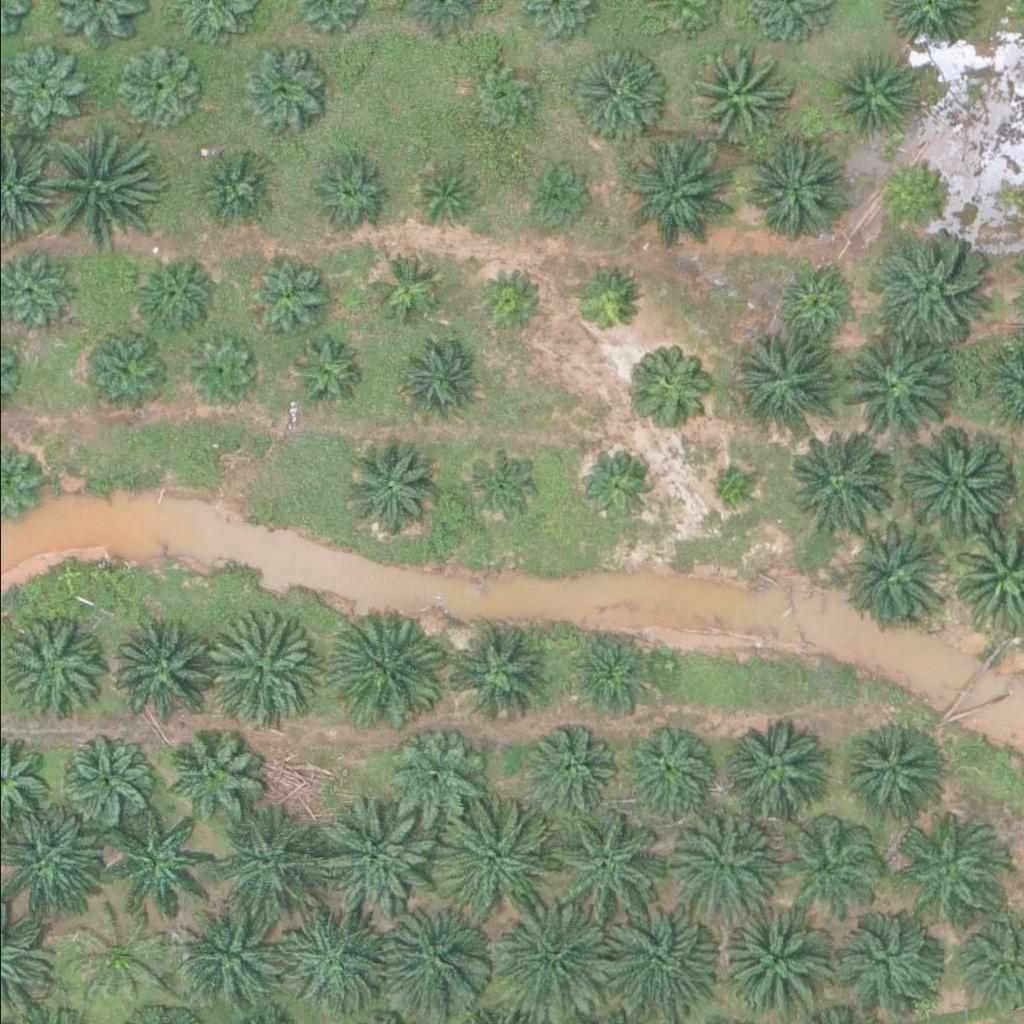Kelapa_Sawit: (331, 614, 445, 727), (315, 798, 428, 911), (208, 610, 321, 723), (36, 132, 149, 245), (494, 907, 607, 1020), (605, 907, 718, 1020), (723, 906, 836, 1019), (838, 907, 951, 1020), (663, 804, 776, 917), (434, 806, 547, 919), (898, 423, 1011, 536), (781, 420, 894, 533), (869, 235, 982, 348), (276, 903, 390, 1015), (163, 904, 277, 1016), (98, 617, 212, 729), (379, 911, 493, 1023), (838, 327, 952, 439), (102, 805, 215, 917), (217, 809, 330, 921), (620, 140, 733, 252), (549, 811, 662, 923), (838, 516, 951, 628), (729, 332, 842, 444), (72, 910, 173, 1010), (54, 727, 155, 827), (2, 620, 103, 720), (338, 435, 439, 535), (686, 45, 787, 145), (747, 142, 848, 242), (893, 808, 994, 908), (781, 814, 882, 914), (627, 720, 728, 820), (719, 720, 820, 820), (845, 726, 946, 826), (447, 622, 548, 722), (162, 724, 262, 824), (568, 46, 668, 146), (385, 727, 485, 827), (526, 723, 626, 823), (244, 252, 333, 340), (456, 444, 545, 532), (301, 150, 389, 238), (185, 138, 273, 226), (78, 322, 166, 410), (109, 44, 197, 132), (768, 259, 856, 347), (631, 344, 719, 432), (392, 338, 480, 426), (130, 251, 218, 338), (238, 46, 326, 133), (827, 52, 915, 139), (575, 442, 663, 529), (572, 629, 660, 716), (878, 156, 954, 231), (516, 159, 592, 234), (177, 334, 253, 409), (404, 157, 480, 232), (567, 264, 642, 339), (367, 249, 442, 324), (462, 63, 537, 138), (283, 337, 358, 412), (471, 264, 546, 339), (698, 461, 748, 511)
